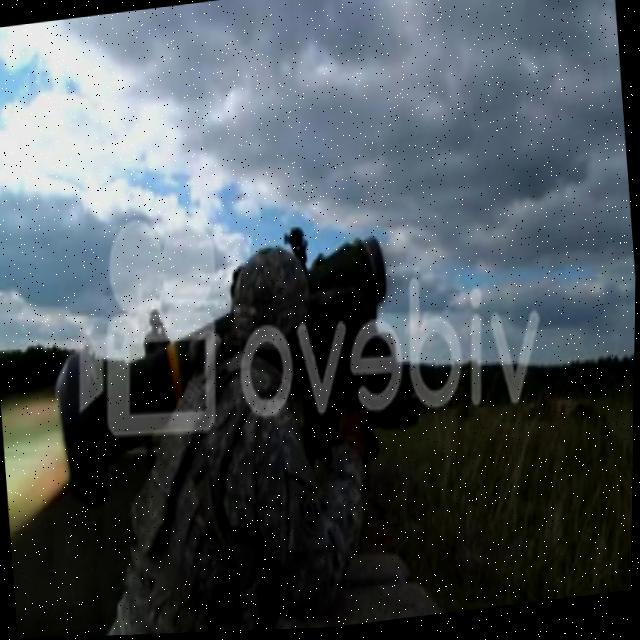rocket: (36, 215, 408, 517)
